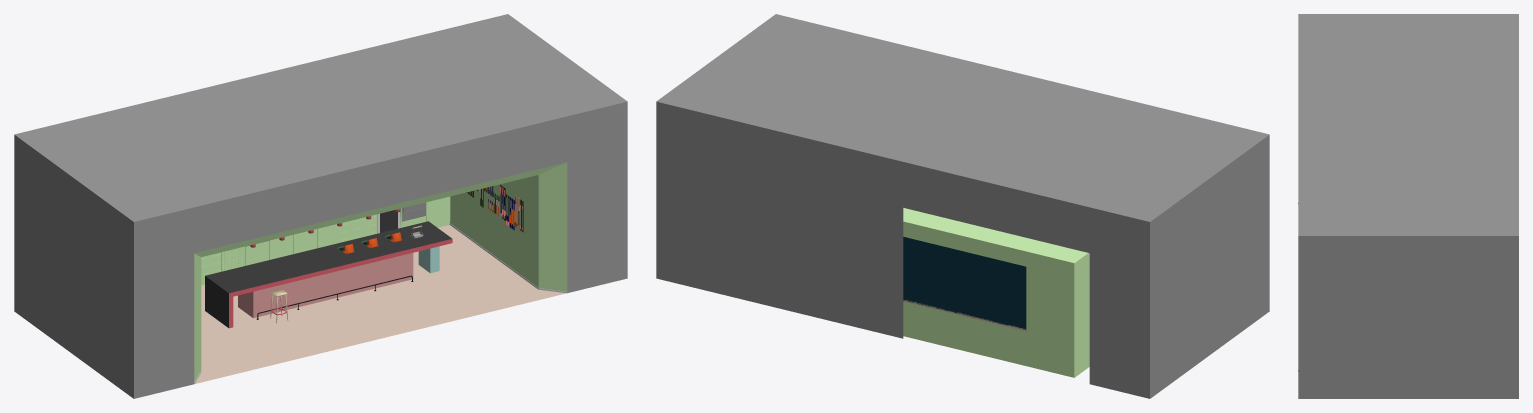
File: ul-kitchen17.gltf
3 views of the same model, side by side, from view 1: azimuth 30°, elevation 25°; view 2: azimuth 150°, elevation 25°; view 3: azimuth 270°, elevation 25° (orthographic). The views are drawn at different scales.
Parts seen in each view (by area): view 1: concreteWalls, floor, mainGreenWall, mainTableTopPlane, mainTableBase, closetDoors, mainTableSidePannels, mainTableSidePlane; view 2: concreteWalls, mainGreenWall, MainNishBackWall; view 3: concreteWalls.
Boxes of the visible parts, box(x1,y1,x2,y2) form: concreteWalls: box(14, 14, 627, 398); floor: box(195, 225, 565, 383); mainGreenWall: box(194, 162, 567, 381); mainTableTopPlane: box(205, 221, 451, 292); mainTableBase: box(238, 253, 413, 318); closetDoors: box(201, 196, 450, 281); mainTableSidePannels: box(229, 239, 452, 328); mainTableSidePlane: box(205, 276, 228, 327); concreteWalls: box(656, 14, 1269, 398); mainGreenWall: box(903, 208, 1089, 377); MainNishBackWall: box(903, 237, 1026, 329); concreteWalls: box(1298, 14, 1518, 398).
Size of the model in its own units: 208 by 71.34 by 87.55.
